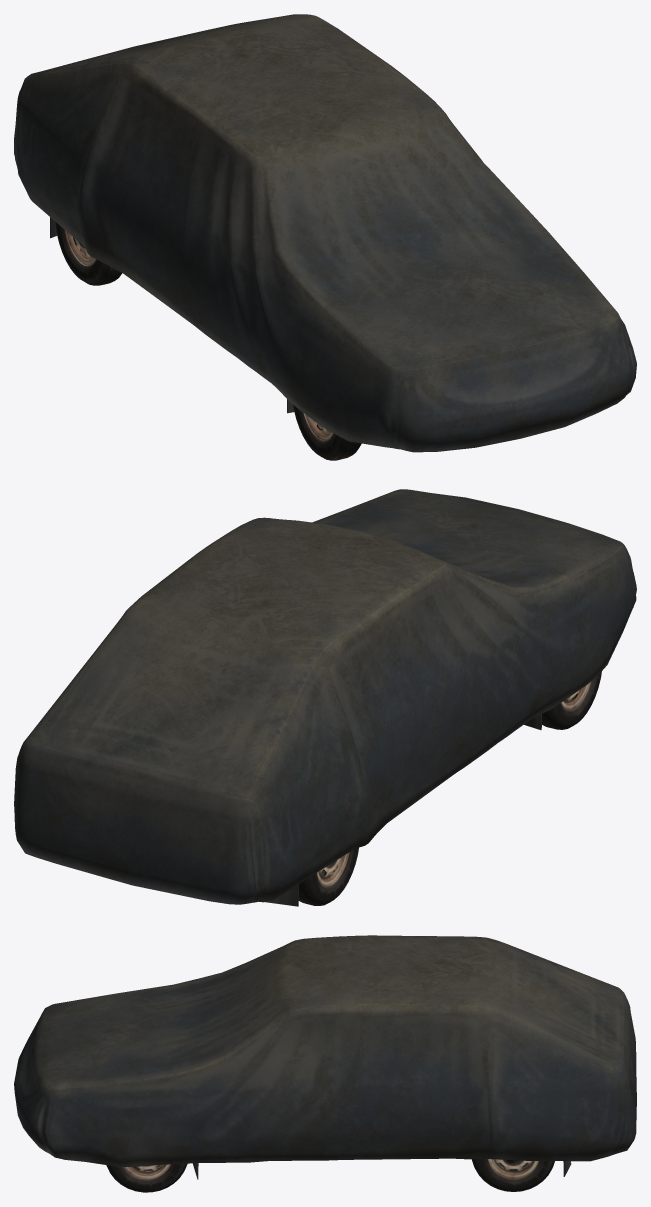
The model's file is covered_car_1k.obj.
3 renders of one model, top to bottom at view 1: azimuth 30°, elevation 25°; view 2: azimuth 150°, elevation 25°; view 3: azimuth 270°, elevation 25°, orthographic. The views are drawn at different scales.
Parts seen in each view (by area): view 1: covered_car_covered_car, covered_car_wheel_03_covered_car, covered_car_wheel_02_covered_car; view 2: covered_car_covered_car, covered_car_wheel_03_covered_car, covered_car_wheel_02_covered_car; view 3: covered_car_covered_car, covered_car_wheel_04_covered_car, covered_car_wheel_01_covered_car.
Boxes of the visible parts, x1=… form: covered_car_covered_car: x1=14, y1=14, x2=636, y2=452; covered_car_wheel_03_covered_car: x1=55, y1=222, x2=122, y2=285; covered_car_wheel_02_covered_car: x1=293, y1=405, x2=361, y2=460; covered_car_covered_car: x1=14, y1=489, x2=636, y2=906; covered_car_wheel_03_covered_car: x1=298, y1=847, x2=358, y2=905; covered_car_wheel_02_covered_car: x1=542, y1=671, x2=601, y2=729; covered_car_covered_car: x1=14, y1=935, x2=636, y2=1179; covered_car_wheel_04_covered_car: x1=472, y1=1159, x2=554, y2=1191; covered_car_wheel_01_covered_car: x1=106, y1=1163, x2=187, y2=1192.
Size of the model in its own units: 1.79 by 1.41 by 4.38.
1 material, 1 textured.
